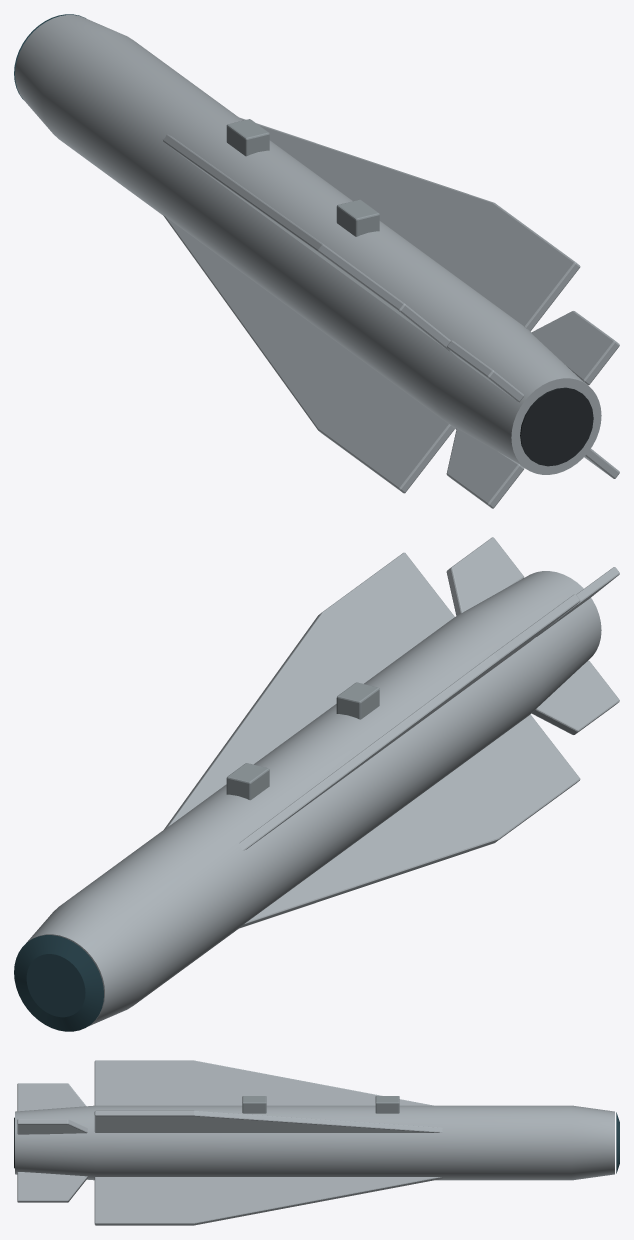
File: agm65.glb
The picture shows the model from 3 angles, top to bottom: view 1: azimuth 30°, elevation 25°; view 2: azimuth 150°, elevation 25°; view 3: azimuth 270°, elevation 25°; orthographic projection. The views are drawn at different scales.
Parts seen in each view (by area): view 1: static.Airframe grey, static.Recess rubber dark, static.Dull metal; view 2: static.Airframe grey, static.Canopy glass, static.Dull metal; view 3: static.Airframe grey, static.Dull metal.
Boxes of the visible parts, <box> form: static.Airframe grey: <box>15,15,619,508</box>; static.Recess rubber dark: <box>520,387,593,466</box>; static.Dull metal: <box>226,119,379,236</box>; static.Airframe grey: <box>26,537,619,1026</box>; static.Canopy glass: <box>14,935,103,1031</box>; static.Dull metal: <box>226,682,379,800</box>; static.Airframe grey: <box>15,1060,614,1225</box>; static.Dull metal: <box>242,1096,399,1113</box>.
Bounding box in the file's own units: 0.5228 × 0.5228 × 2.5.
